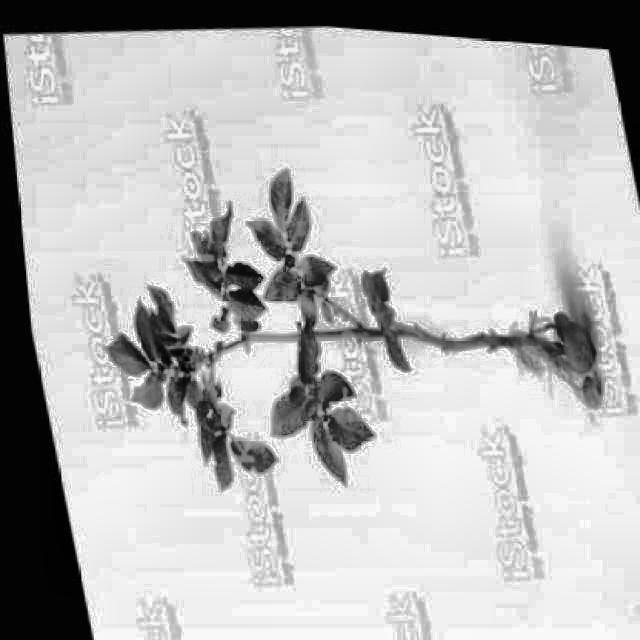plants: (57, 111, 626, 532)
